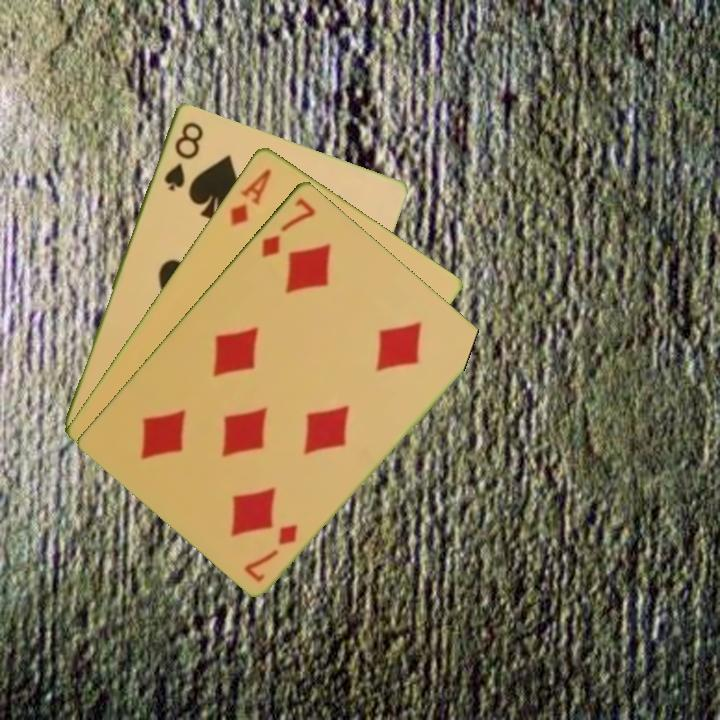7d: (257, 194, 319, 260), (241, 519, 301, 585)
8s: (160, 117, 206, 194)
Ad: (226, 164, 275, 229)
